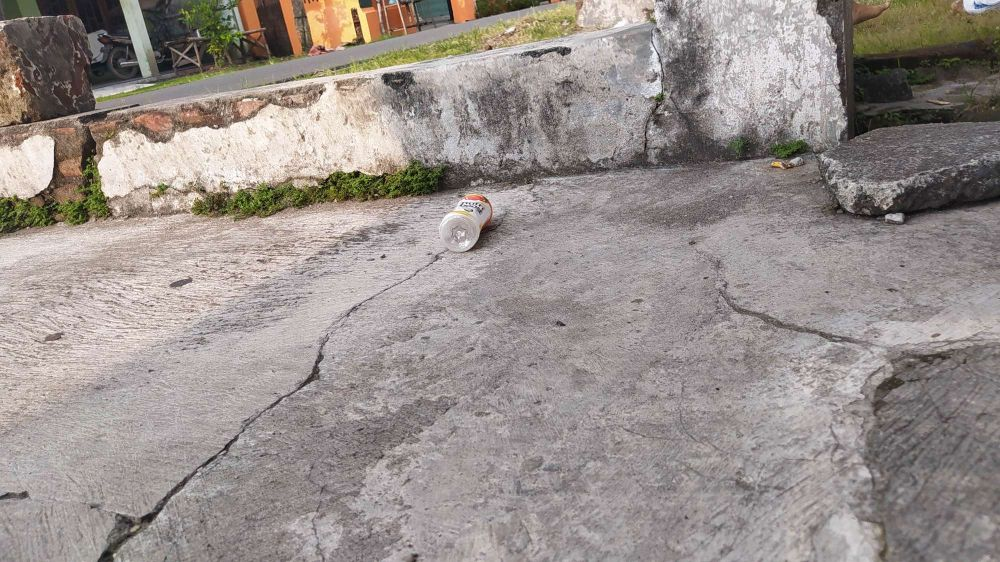botol: (415, 180, 514, 245)
